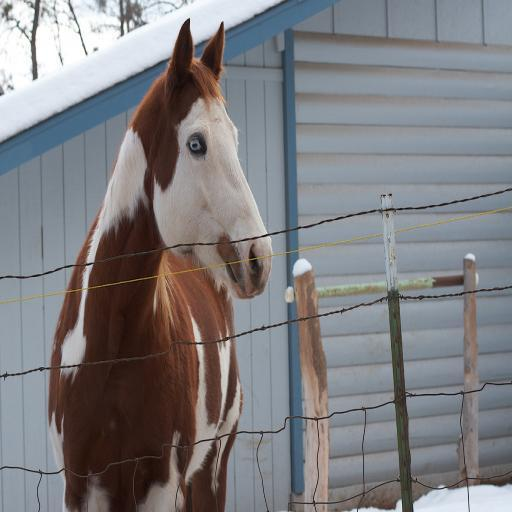horse: (47, 14, 274, 512)
